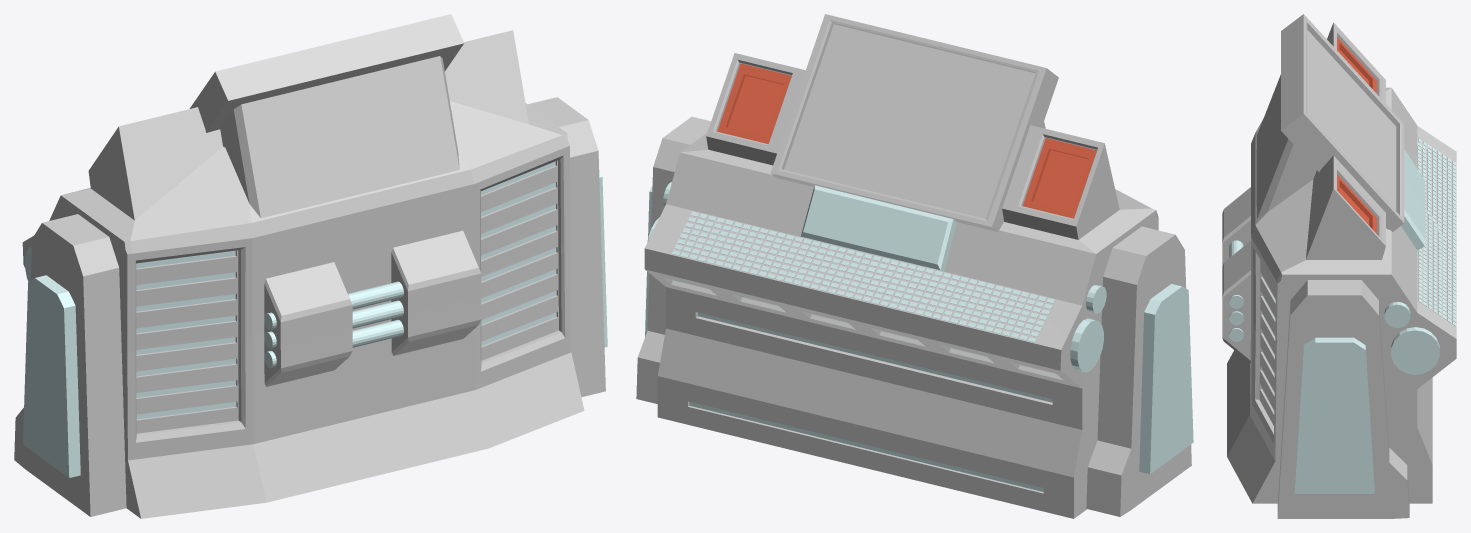
The model's file is terminal.fbx.
3 renders of one model, left to right at view 1: azimuth 30°, elevation 25°; view 2: azimuth 150°, elevation 25°; view 3: azimuth 270°, elevation 25°, orthographic. The views are drawn at different scales.
Parts seen in each view (by area): view 1: Terminal; view 2: Terminal; view 3: Terminal.
Boxes of the visible parts, bbox=[...] form: Terminal: bbox=[14, 14, 607, 518]; Terminal: bbox=[636, 14, 1193, 518]; Terminal: bbox=[1222, 14, 1456, 518].
Size of the model in its own units: 945 by 671 by 412.
